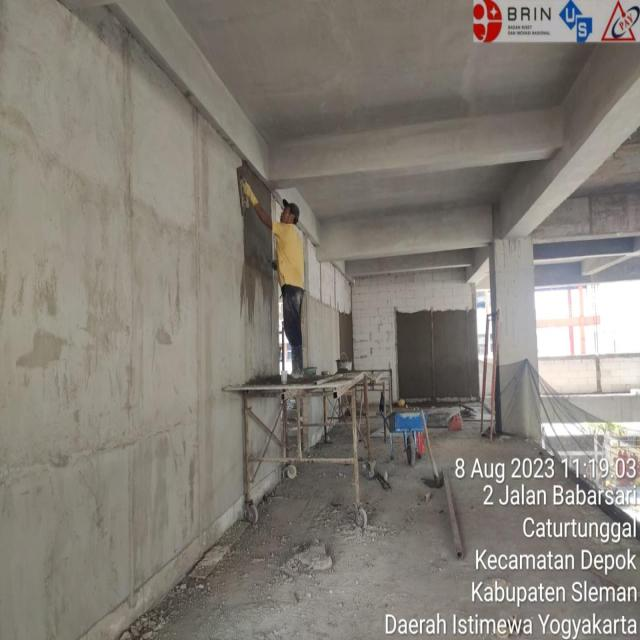Helmet: (260, 226, 336, 311), (268, 176, 304, 229)
